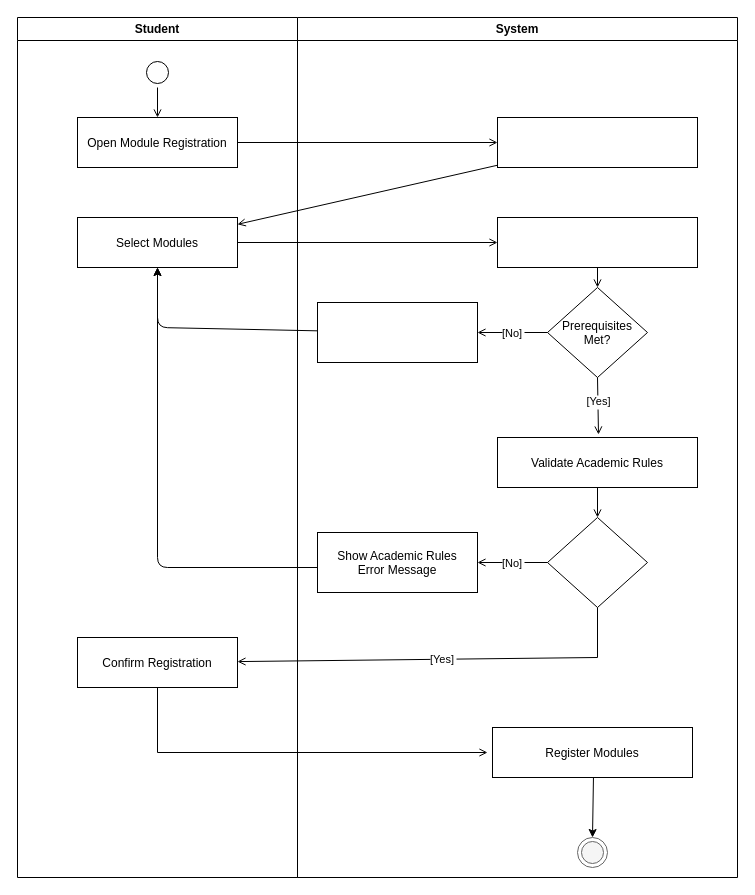
The diagram is 755 pixels wide and 895 high, and some of its shapes have lost their labels. The centre of each missing label's shape, as x and y in pixels:
Academic Rules Valid?: (597,562)
Browse Available Modules: (597,142)
Show Prerequisite Error Message: (397,332)
Validate Prerequisites: (597,242)
